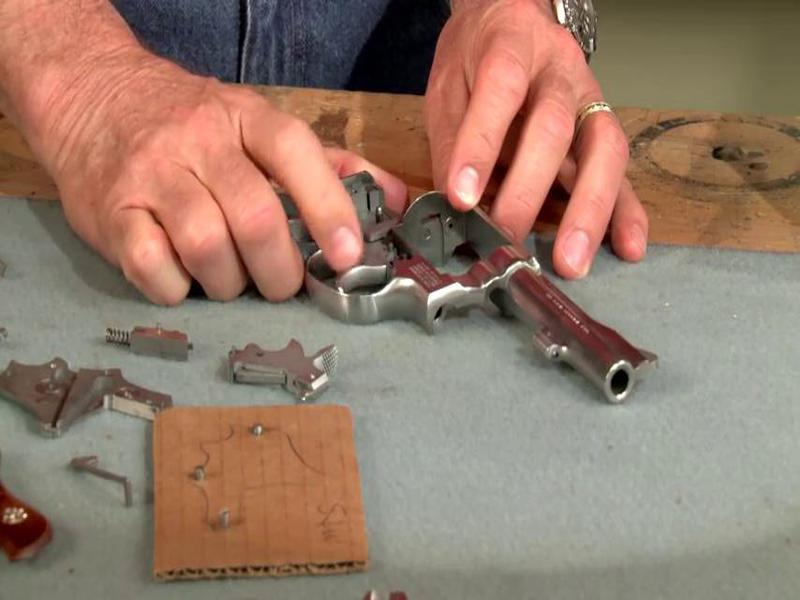Revolver: (258, 133, 688, 440)
